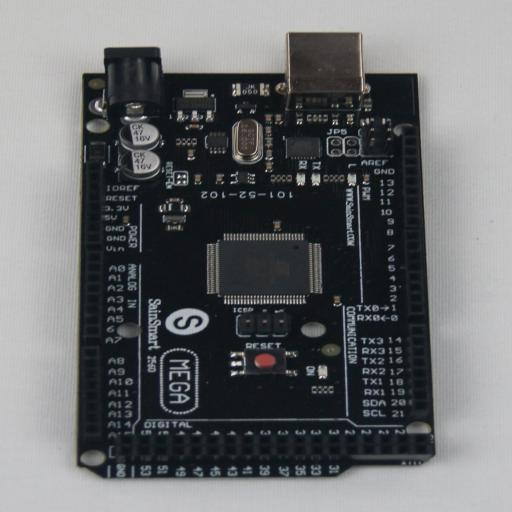Arduino Mega 2560 -Black-: (77, 33, 435, 478)
